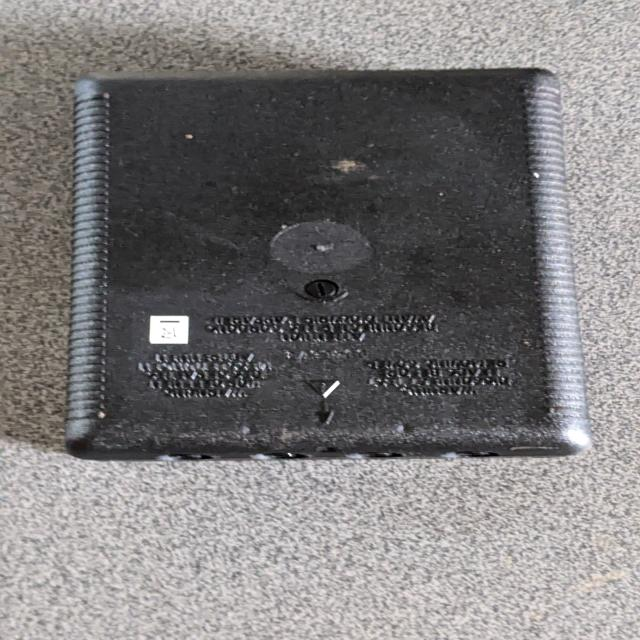Analog Multimeter: (42, 57, 616, 474)
